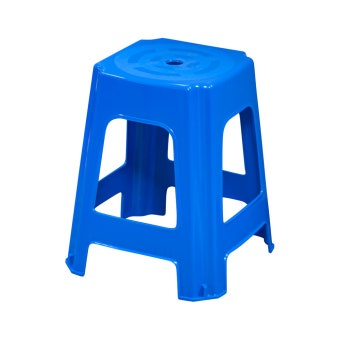plastic: (65, 37, 275, 301)
